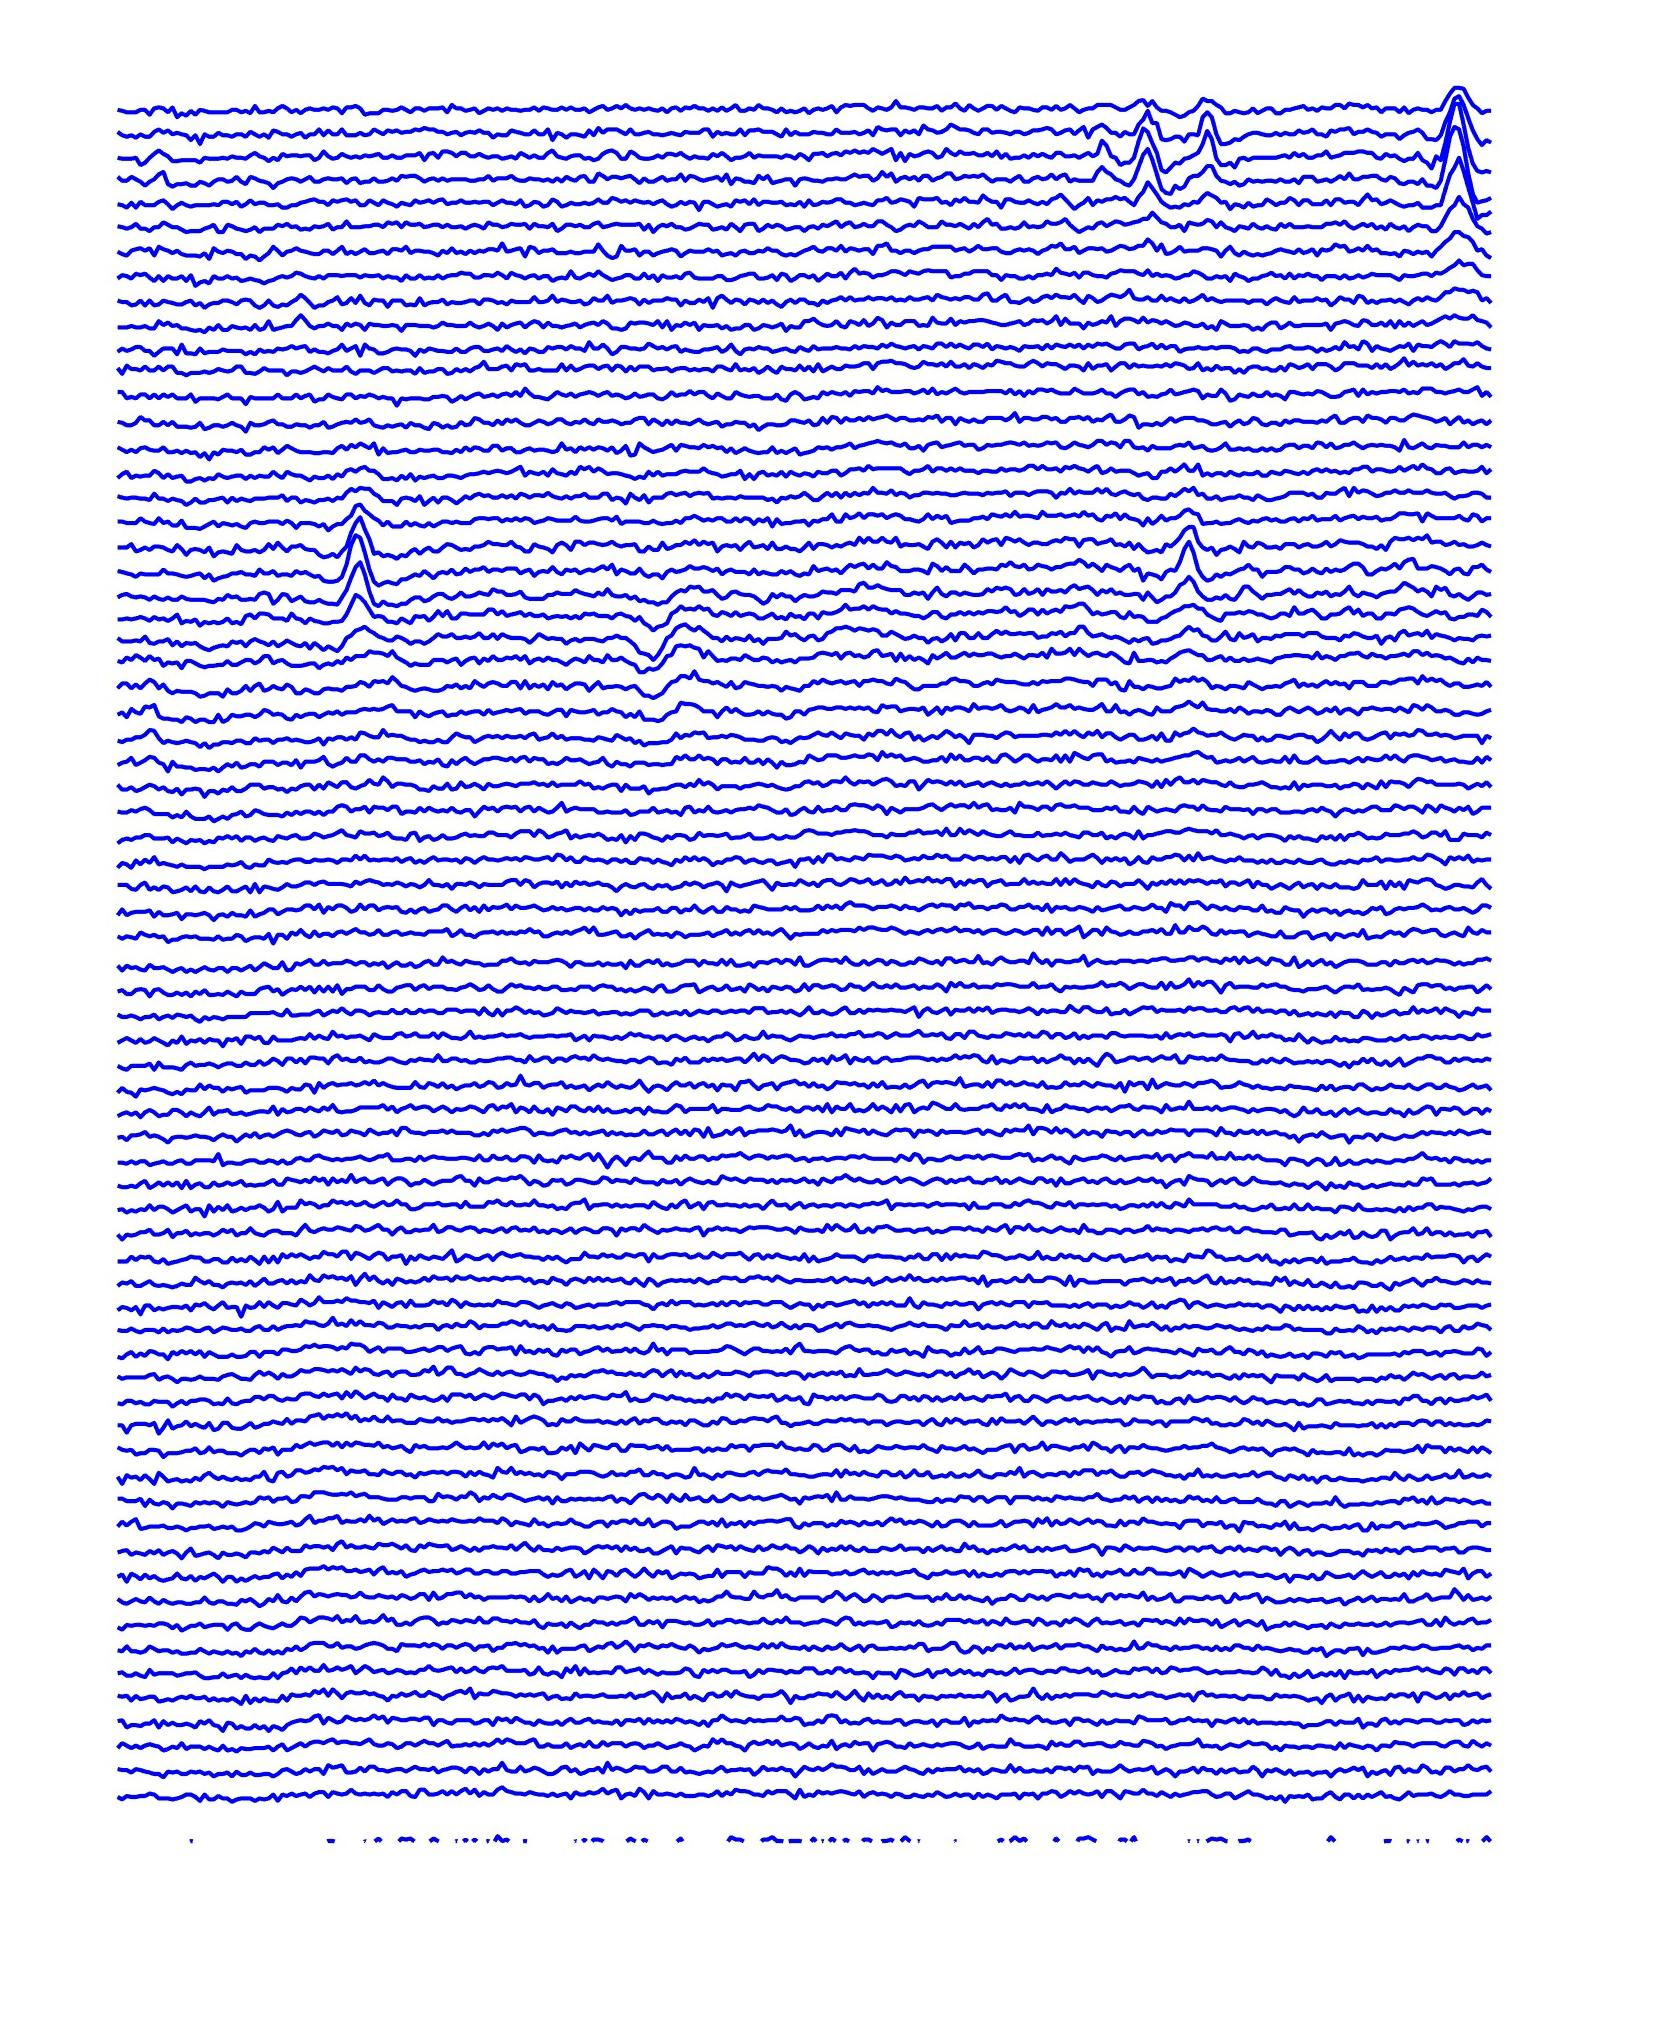defect: (1403, 66, 1500, 254), (1128, 89, 1226, 214), (1150, 495, 1231, 633), (606, 578, 687, 707), (327, 472, 382, 642)
